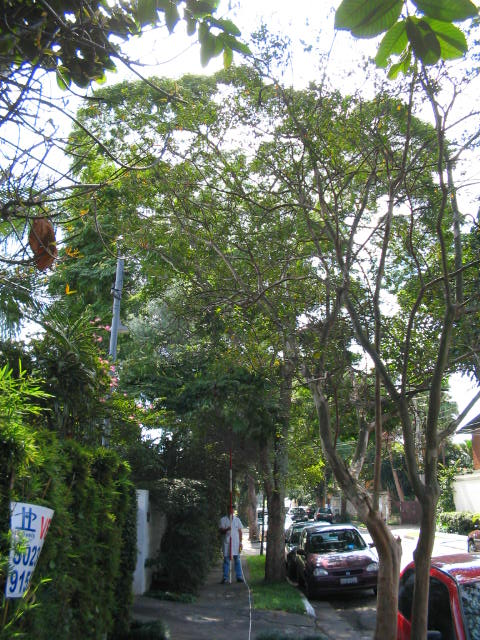stem: (258, 501, 295, 585)
stick: (220, 448, 235, 585)
